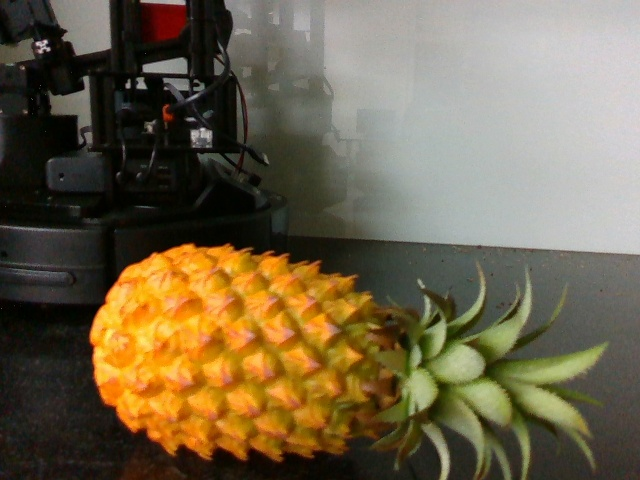pineapple: (85, 231, 610, 474)
